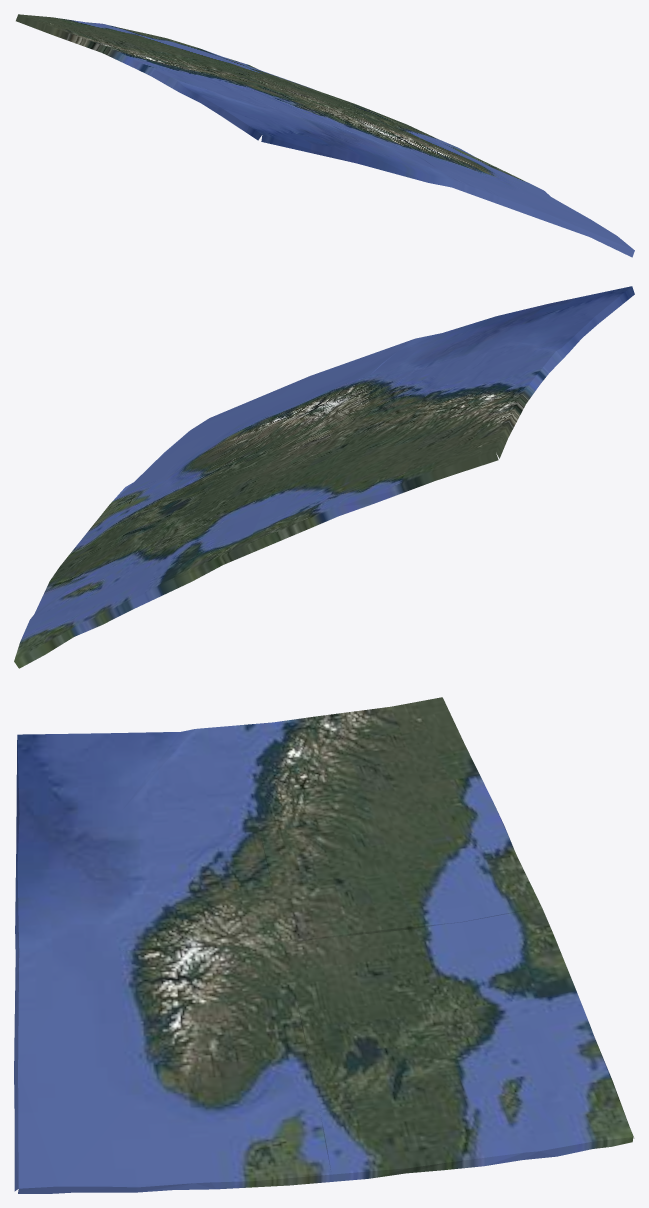
3 renders of one model, top to bottom at view 1: azimuth 30°, elevation 25°; view 2: azimuth 150°, elevation 25°; view 3: azimuth 270°, elevation 25°, orthographic. The views are drawn at different scales.
Size of the model in its own units: 1307478 by 616897 by 1375686.
Materials: 1 (1 with a texture image).
